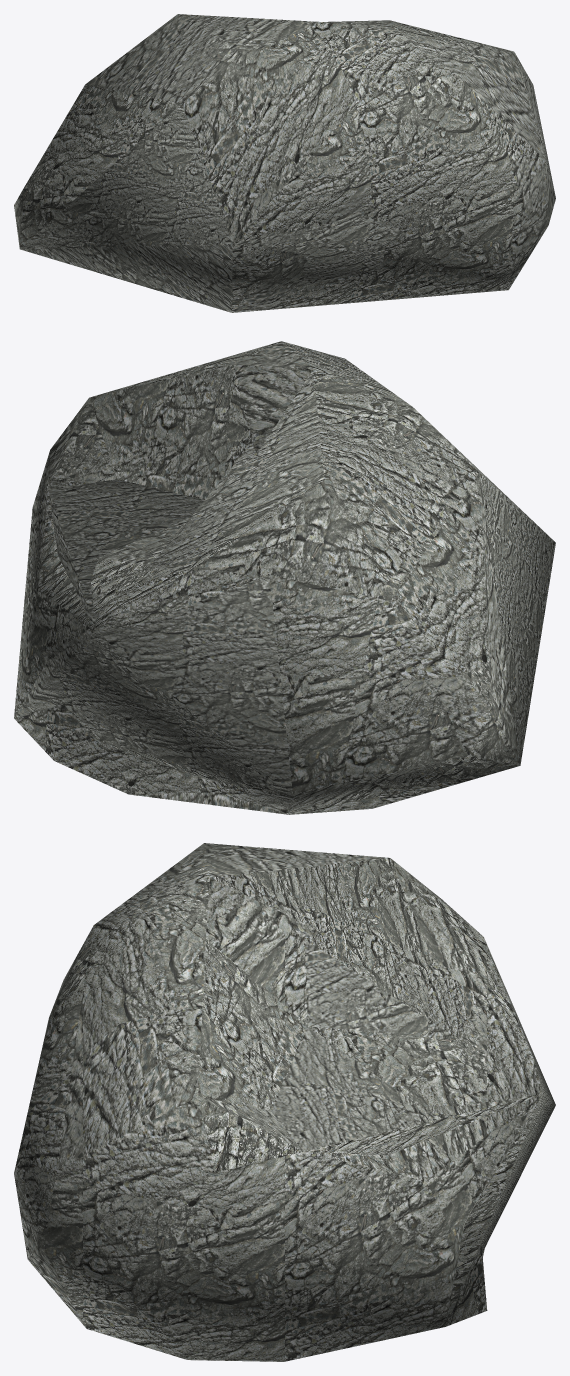
File: SM_Rock_01.FBX
The picture shows the model from 3 angles, top to bottom: view 1: azimuth 30°, elevation 25°; view 2: azimuth 150°, elevation 25°; view 3: azimuth 270°, elevation 25°; orthographic projection. The views are drawn at different scales.
Parts seen in each view (by area): view 1: cliff256, cliff128; view 2: cliff256, cliff128; view 3: cliff256, cliff128.
Boxes of the visible parts, <box> form: cliff256: <box>14,14,555,312</box>; cliff128: <box>20,104,406,312</box>; cliff256: <box>14,341,552,814</box>; cliff128: <box>14,370,555,814</box>; cliff256: <box>14,843,542,1361</box>; cliff128: <box>210,858,555,1326</box>.
Size of what is drawn, in the model's own units: 25.82 by 15.78 by 20.12.
